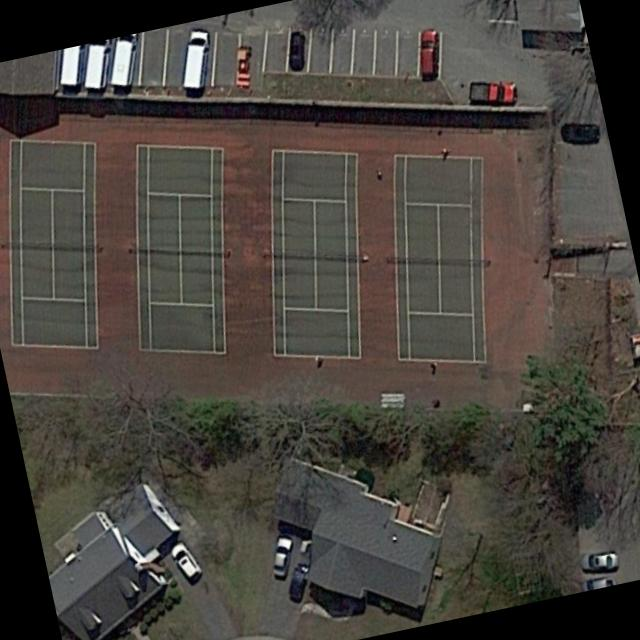large-vehicle: (179, 26, 211, 88)
small-vehicle: (166, 537, 204, 582), (576, 546, 621, 573), (417, 26, 440, 78), (465, 80, 515, 103), (269, 533, 293, 579), (285, 561, 310, 599), (558, 121, 599, 144), (286, 30, 306, 71), (235, 43, 251, 87)
